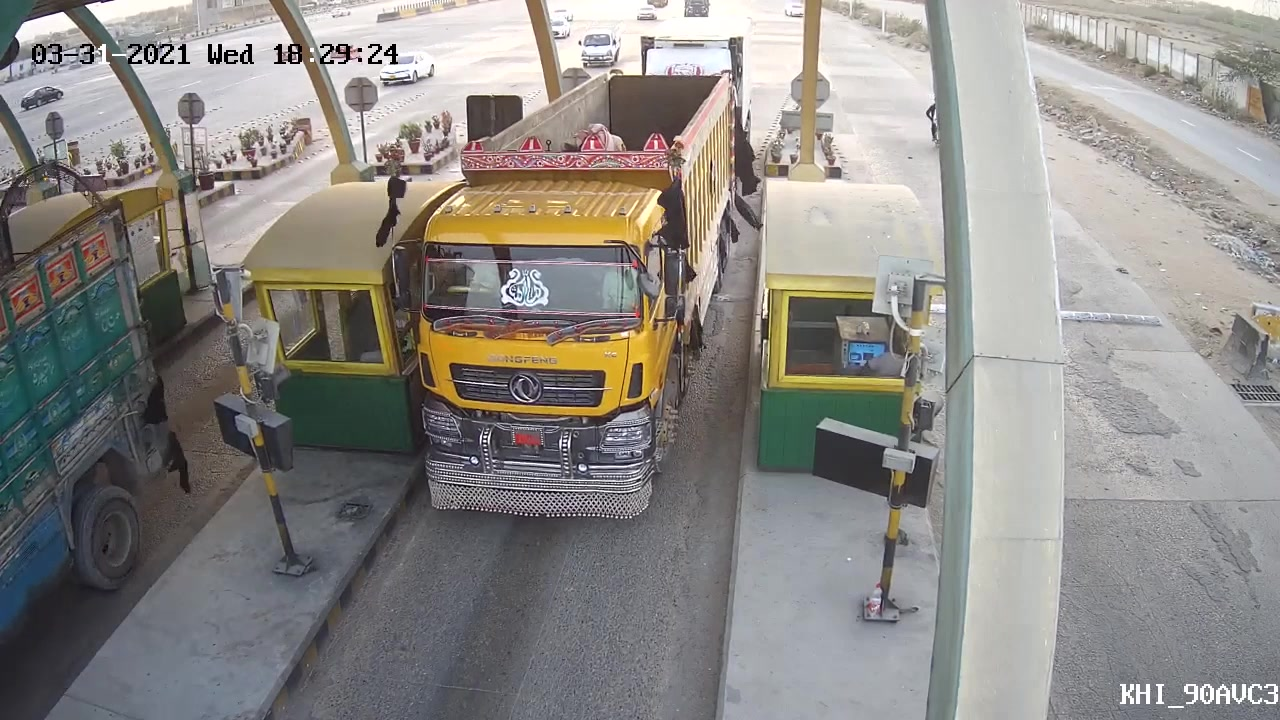F6: (400, 65, 752, 521)
